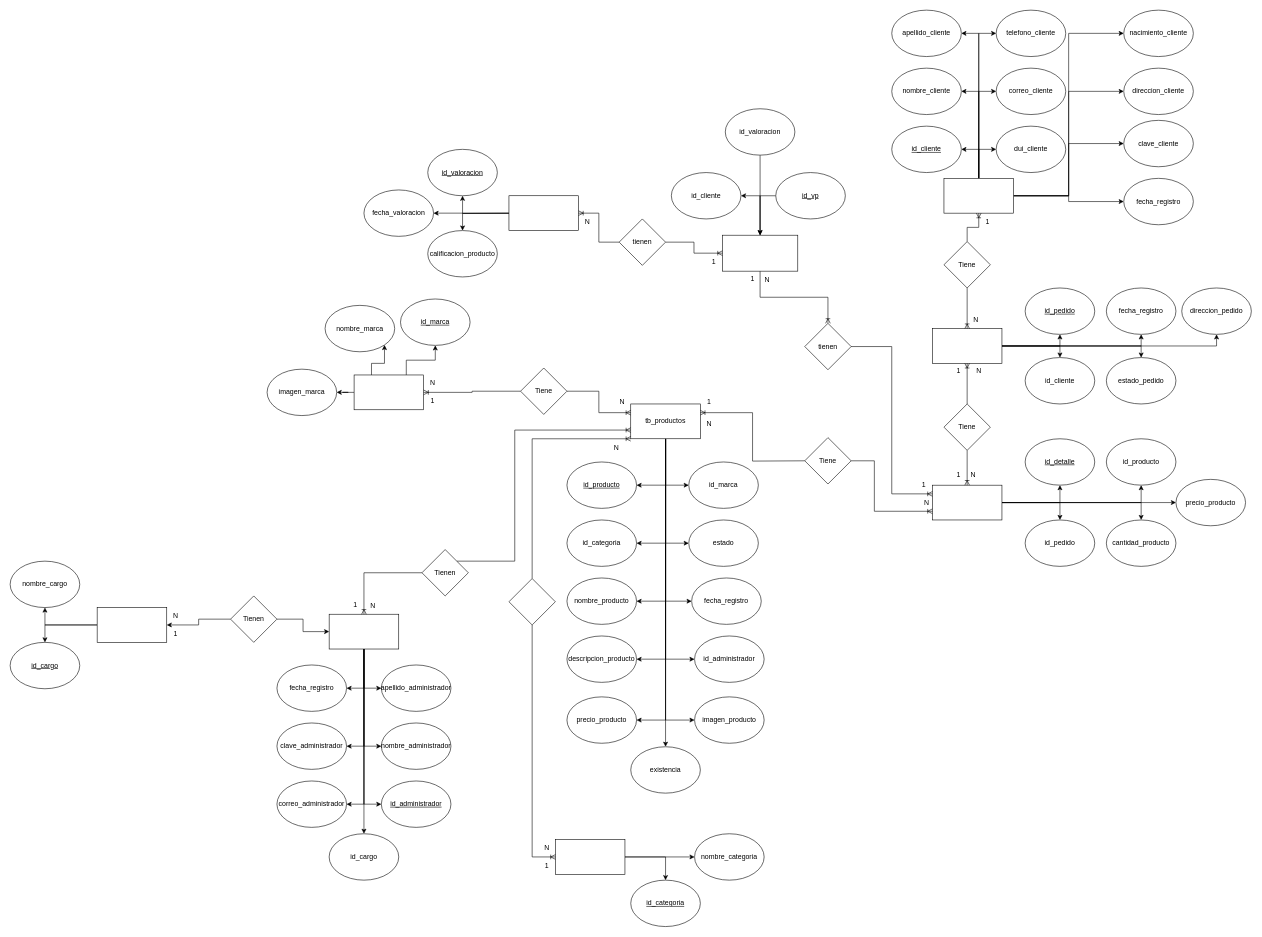
Image size: 1262x937. Some labels were removed from this diagram. Each missing label, with the centre of its shape:
"Contienen" goes at [531,601].
"tb_administradores" goes at [364,631].
"tb_cargos" goes at [132,624].
"tb_categorias" goes at [590,856].
"tb_clientes" goes at [978,195].
"tb_detalles_pedidos" goes at [967,502].
"tb_marcas" goes at [389,392].
"tb_pedidos" goes at [967,345].
"tb_valoracion_productos" goes at [760,253].
"tb_valoraciones" goes at [543,213].
